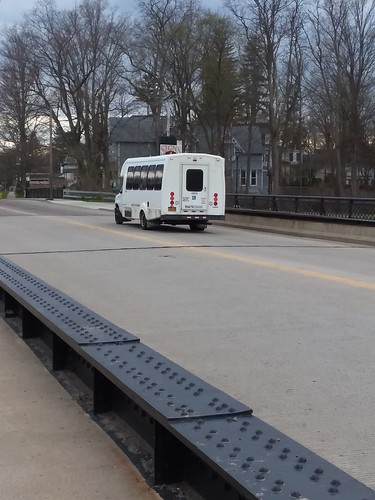building: (107, 116, 262, 195)
bus: (84, 144, 226, 229)
street: (1, 196, 375, 500)
vegetation: (1, 1, 365, 196)
